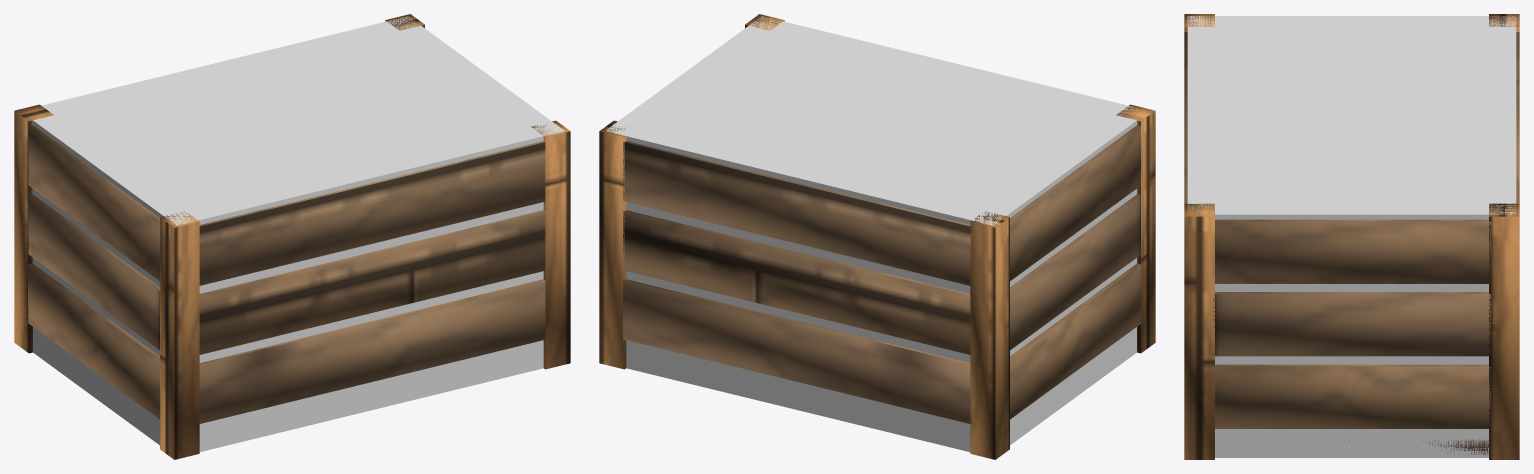
File: FMS_Crate_Base.fbx
The picture shows the model from 3 angles, left to right: view 1: azimuth 30°, elevation 25°; view 2: azimuth 150°, elevation 25°; view 3: azimuth 270°, elevation 25°; orthographic projection. The views are drawn at different scales.
Parts seen in each view (by area): view 1: Crate_Base_LOD0, Crate_Base_Col; view 2: Crate_Base_LOD0, Crate_Base_Col; view 3: Crate_Base_Col, Crate_Base_LOD0.
Part boxes in pixels (bbox=[...]): Crate_Base_LOD0: bbox=[14, 14, 570, 459]; Crate_Base_Col: bbox=[31, 16, 564, 451]; Crate_Base_LOD0: bbox=[599, 14, 1155, 459]; Crate_Base_Col: bbox=[606, 16, 1139, 451]; Crate_Base_Col: bbox=[1187, 16, 1516, 457]; Crate_Base_LOD0: bbox=[1184, 14, 1519, 459].
Size of what is drawn, in the model's own units: 50 by 28 by 35.
